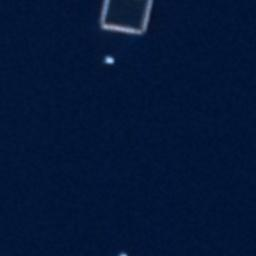square_solid: (93, 1, 158, 40)
